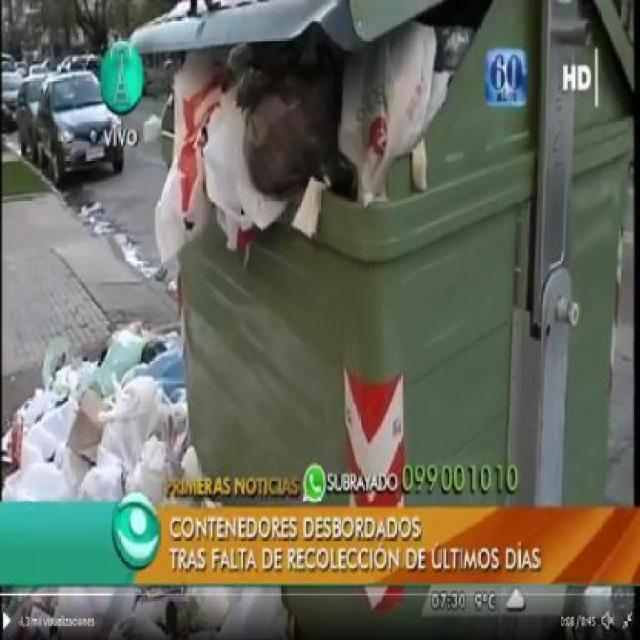garbage: (185, 60, 378, 170), (43, 334, 187, 465), (160, 174, 324, 235), (17, 392, 107, 496)
